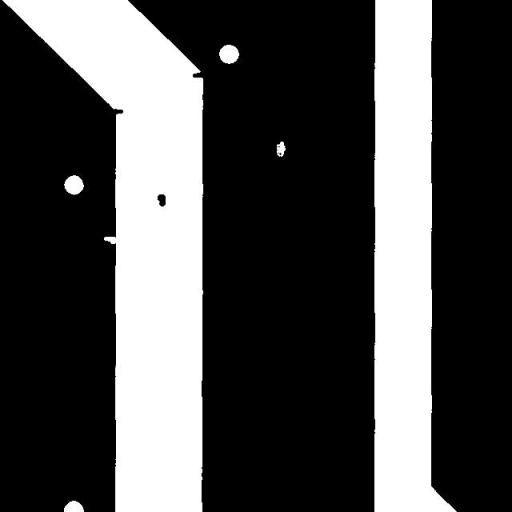copper: (150, 186, 172, 214)
mousebite: (96, 229, 127, 251)
pin-hole: (269, 134, 293, 164)
spur: (101, 100, 130, 122), (185, 63, 212, 85)
